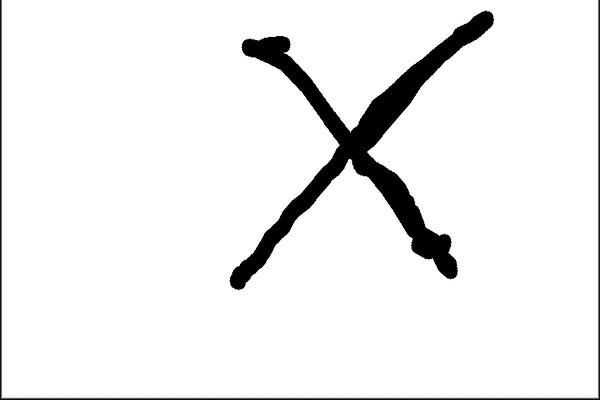X: (219, 7, 502, 295)
